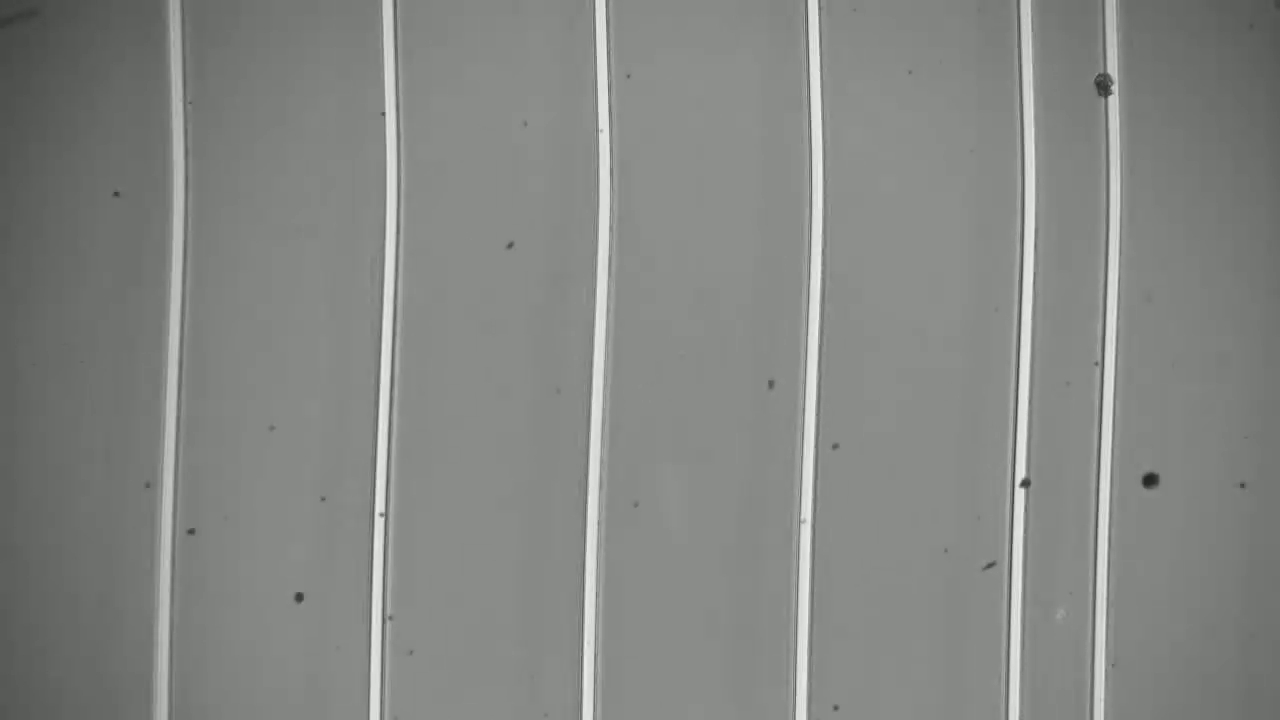stains_enbedded: (1090, 55, 1131, 113), (1004, 467, 1040, 498)
